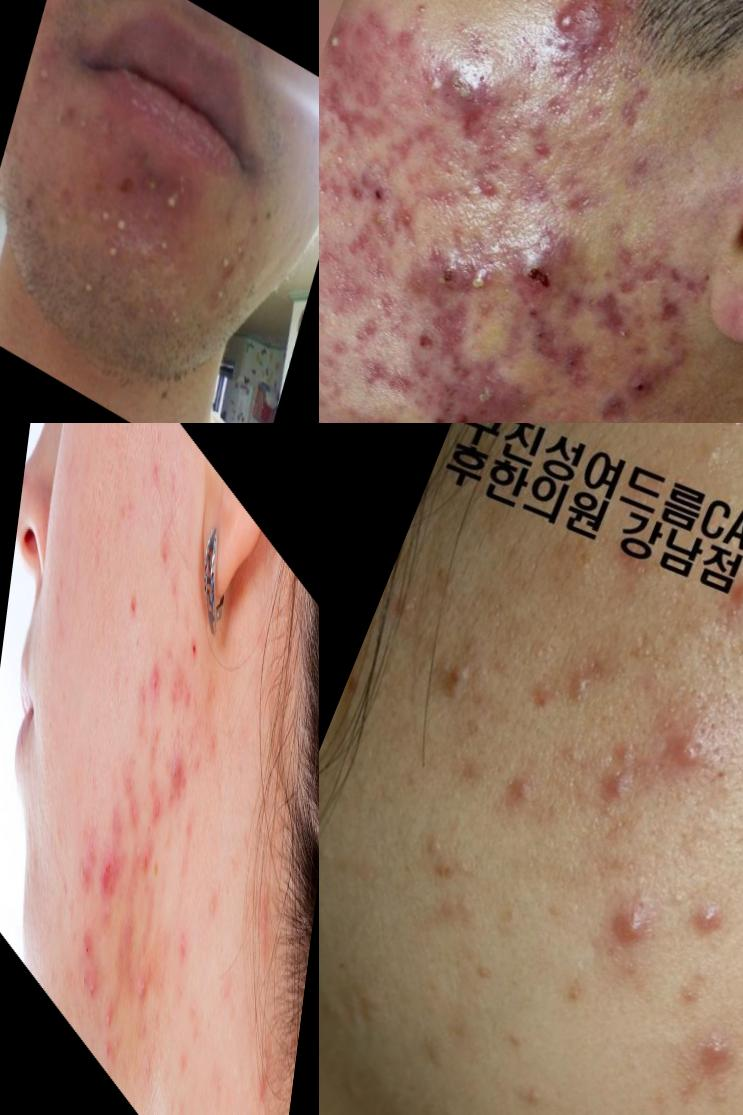acne_scars: (320, 82, 403, 166), (603, 68, 674, 144), (579, 287, 648, 357), (353, 355, 420, 410), (656, 253, 727, 302), (649, 291, 703, 341), (384, 199, 429, 240), (365, 404, 440, 424)
folliculitis: (84, 190, 143, 279), (204, 230, 255, 318), (159, 294, 192, 340), (152, 230, 183, 272), (80, 276, 107, 316), (32, 60, 56, 102)
papular: (576, 749, 659, 843), (679, 1004, 743, 1115), (681, 886, 743, 953), (78, 824, 99, 911), (145, 650, 170, 713), (131, 781, 144, 831)
purulent: (593, 893, 663, 984), (320, 13, 380, 83), (544, 1, 595, 51), (723, 558, 743, 671), (135, 953, 155, 1017), (87, 965, 103, 1020), (104, 1000, 117, 1047)
sebo-crystan-conglo: (417, 50, 521, 163), (551, 1, 635, 124), (504, 221, 597, 319), (406, 235, 509, 323), (438, 366, 541, 424), (101, 831, 132, 927), (159, 169, 198, 222), (169, 748, 190, 821)
whitehead: (654, 424, 743, 512), (549, 649, 619, 735)
